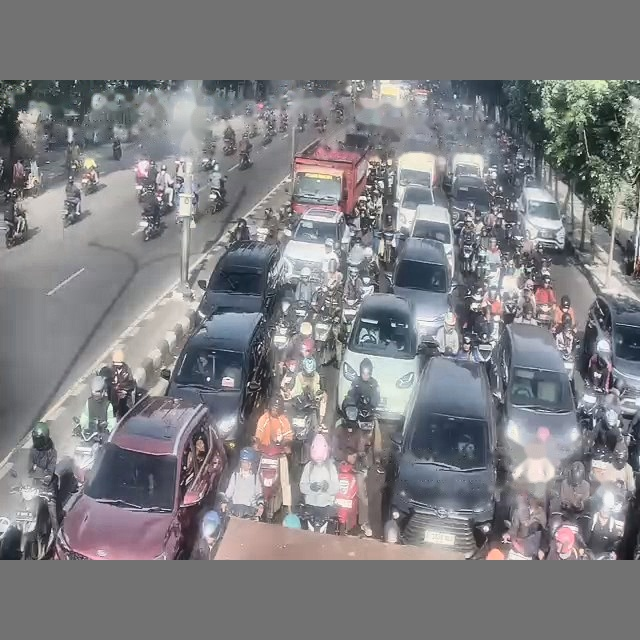Mobil: (56, 397, 226, 559), (388, 357, 498, 553), (161, 313, 270, 448), (490, 323, 581, 467), (338, 293, 420, 421), (580, 294, 639, 417), (197, 240, 283, 320), (391, 238, 453, 340), (282, 208, 350, 281), (410, 204, 455, 277), (518, 187, 565, 250), (449, 175, 490, 228), (395, 185, 433, 231)
Motor: (0, 475, 54, 559), (73, 417, 106, 487), (258, 444, 284, 520), (4, 212, 28, 248), (139, 213, 160, 241), (62, 199, 80, 227), (208, 187, 223, 214), (536, 304, 552, 329), (81, 172, 97, 195), (200, 154, 215, 171), (238, 151, 251, 169), (223, 139, 236, 155)
Truk: (291, 141, 367, 216)
